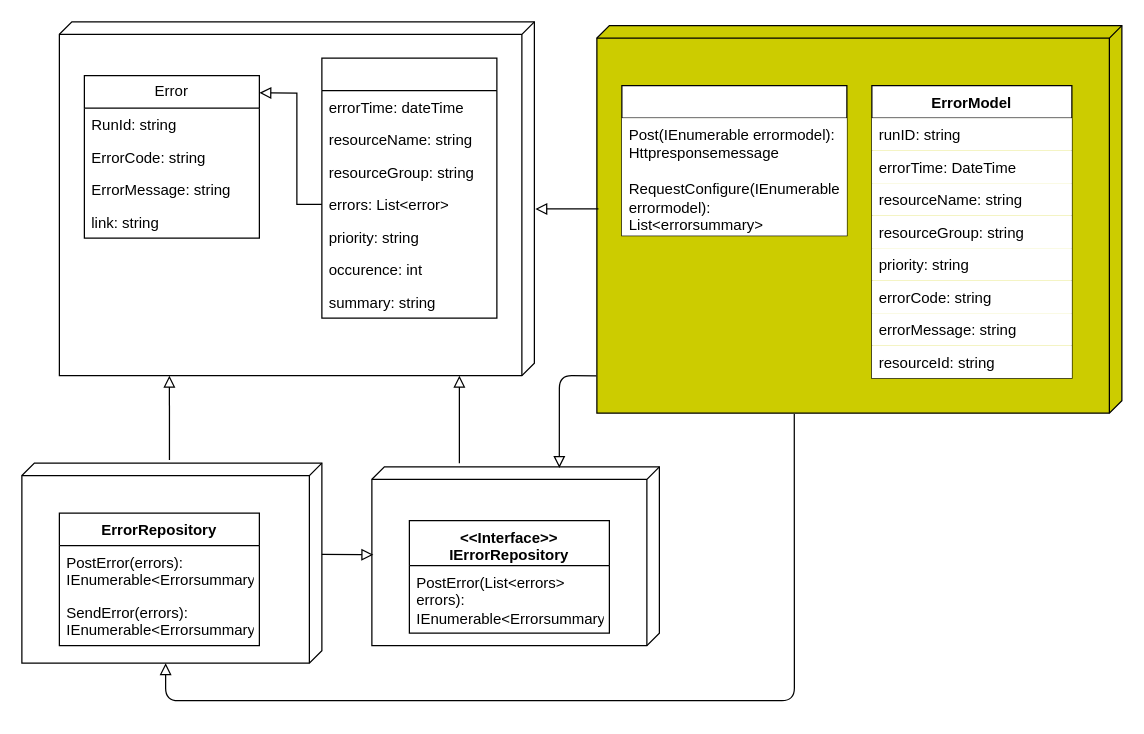
The diagram is 1144 pixels wide and 734 high, and some of its shapes have lost their labels. Each missing label, with the box of its shape:
Core.Domain: (58, 21, 534, 376)
Core.DomainService: (371, 466, 659, 646)
ErrorController: (621, 84, 847, 236)
Errormangement.API: (596, 24, 1122, 413)
Errorsummary: (321, 57, 497, 318)
Infastructure.API: (21, 462, 322, 663)
